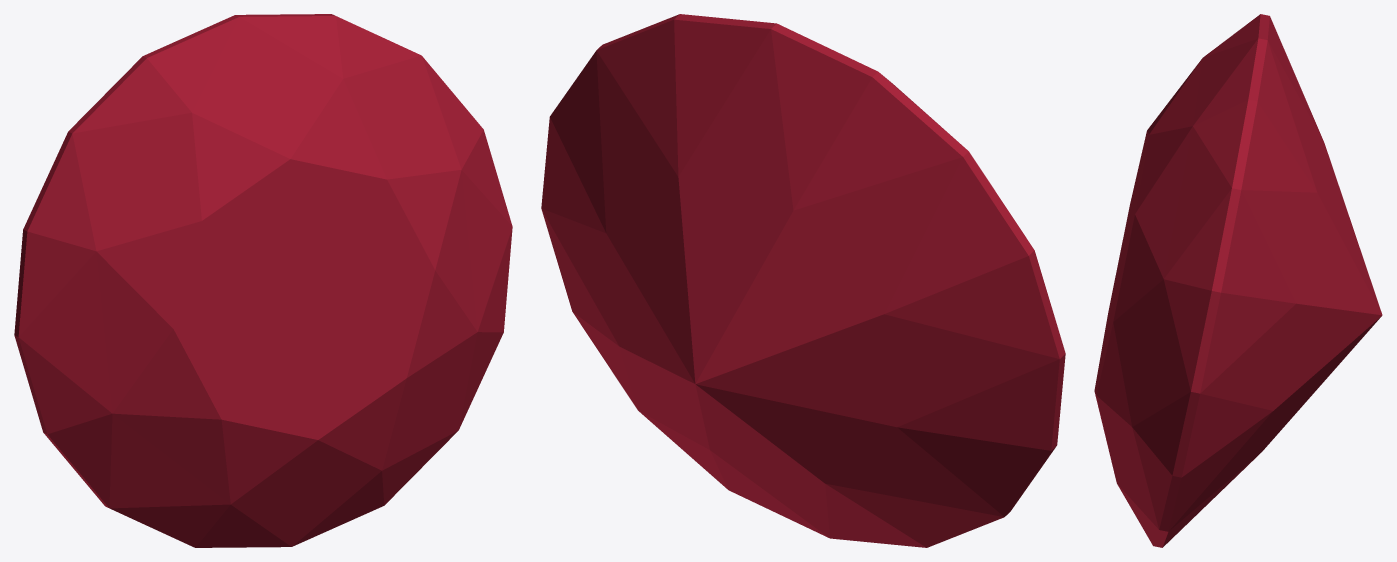
Rendered from garnet.glb.
3 views of the same model, side by side, from view 1: azimuth 30°, elevation 25°; view 2: azimuth 150°, elevation 25°; view 3: azimuth 270°, elevation 25° (orthographic). The views are drawn at different scales.
Visible parts, largest first — view 1: garnet; view 2: garnet; view 3: garnet.
Boxes of the visible parts, x1,y1,x2,y2 form: garnet: (14, 14, 512, 547); garnet: (541, 14, 1065, 547); garnet: (1094, 14, 1382, 547).
Size of the model in its own units: 2.3 by 2.27 by 1.22.
